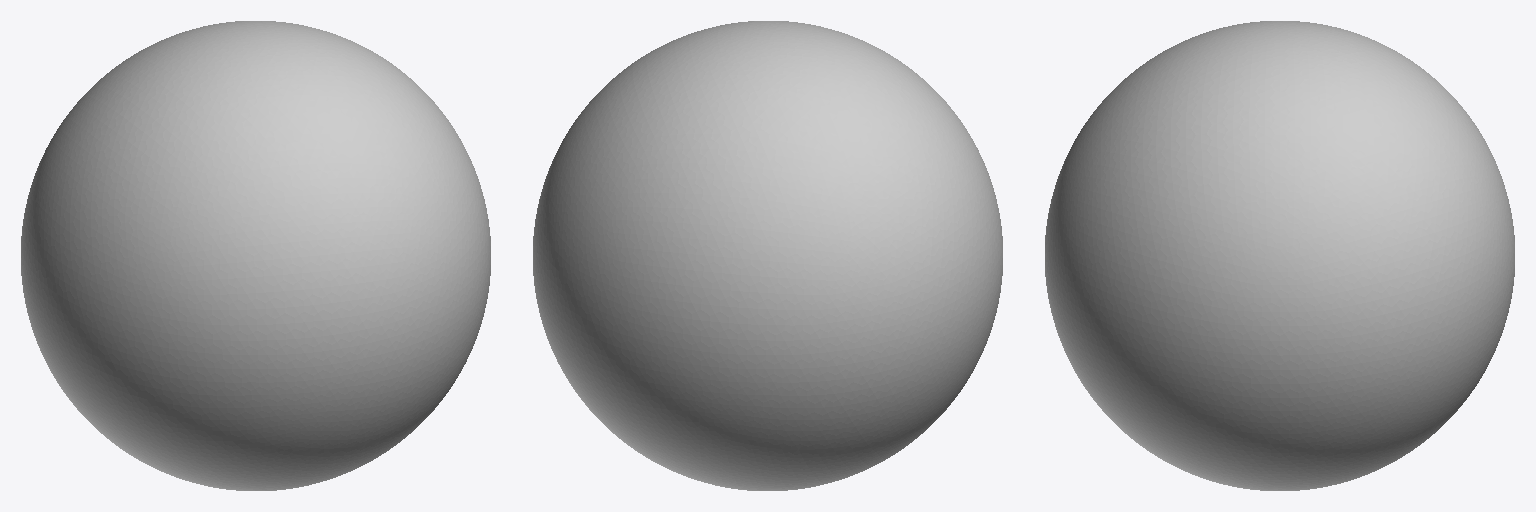
Rendered from smooth_pink_sphere.obj.
3 views of the same model, side by side, from view 1: azimuth 30°, elevation 25°; view 2: azimuth 150°, elevation 25°; view 3: azimuth 270°, elevation 25° (orthographic).
Size of the model in its own units: 0.9997 by 1 by 0.9998.